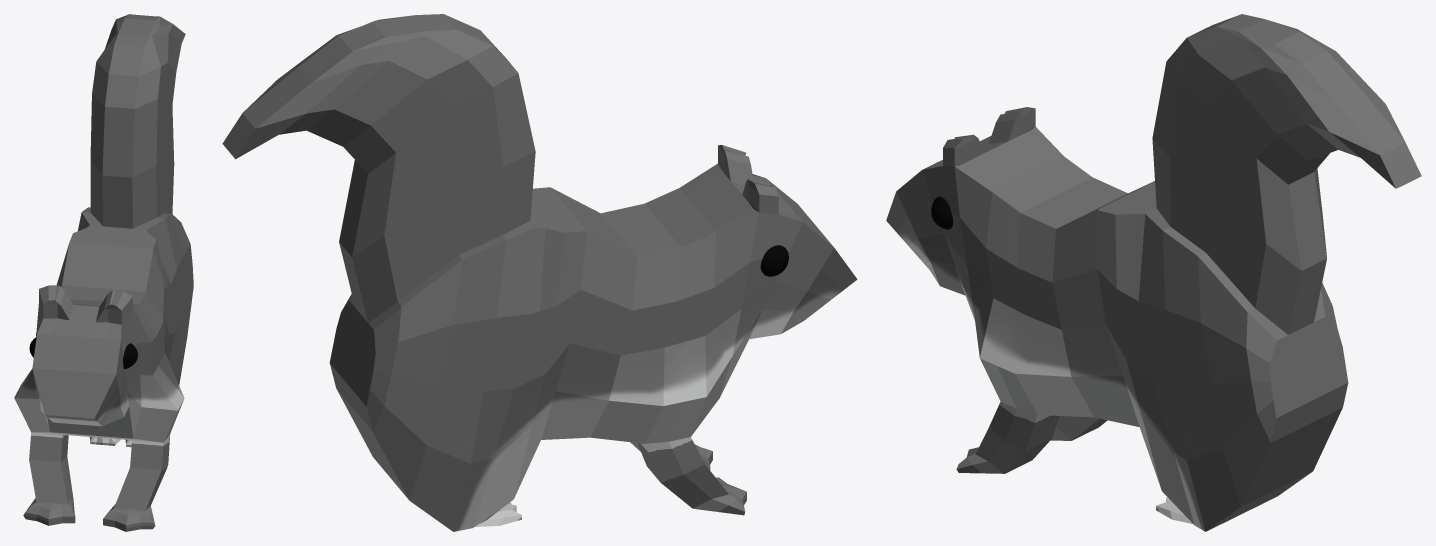
File: Squirrel.fbx
3 renders of one model, left to right at view 1: azimuth 30°, elevation 25°; view 2: azimuth 150°, elevation 25°; view 3: azimuth 270°, elevation 25°, orthographic. The views are drawn at different scales.
Visible parts, largest first — view 1: Plane.005; view 2: Plane.005; view 3: Plane.005.
Part boxes in pixels (x1,y1,x2,y2): Plane.005: [14, 14, 193, 531]; Plane.005: [222, 14, 857, 531]; Plane.005: [886, 14, 1421, 531].
Bounding box in the file's own units: 248 × 296 × 284.
Materials: 2 (1 with a texture image).
